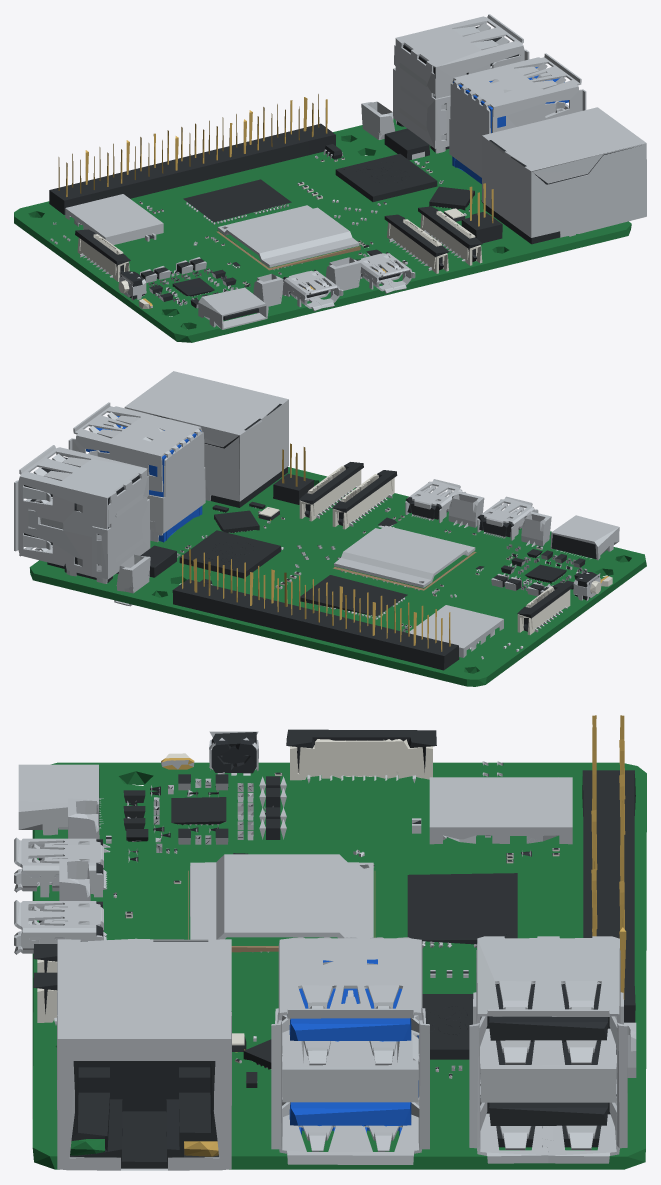
The model's file is raspberry-pi-5.glb.
The picture shows the model from 3 angles, top to bottom: view 1: azimuth 30°, elevation 25°; view 2: azimuth 150°, elevation 25°; view 3: azimuth 270°, elevation 25°; orthographic projection. The views are drawn at different scales.
Visible parts, largest first — view 1: RPI5_PresentationRoot; view 2: RPI5_PresentationRoot; view 3: RPI5_PresentationRoot.
Part boxes in pixels (bbox=[...]): RPI5_PresentationRoot: bbox=[14, 14, 646, 342]; RPI5_PresentationRoot: bbox=[14, 371, 646, 686]; RPI5_PresentationRoot: bbox=[14, 715, 646, 1170].
Bounding box in the file's own units: 0.0885 × 0.0189 × 0.0576.
